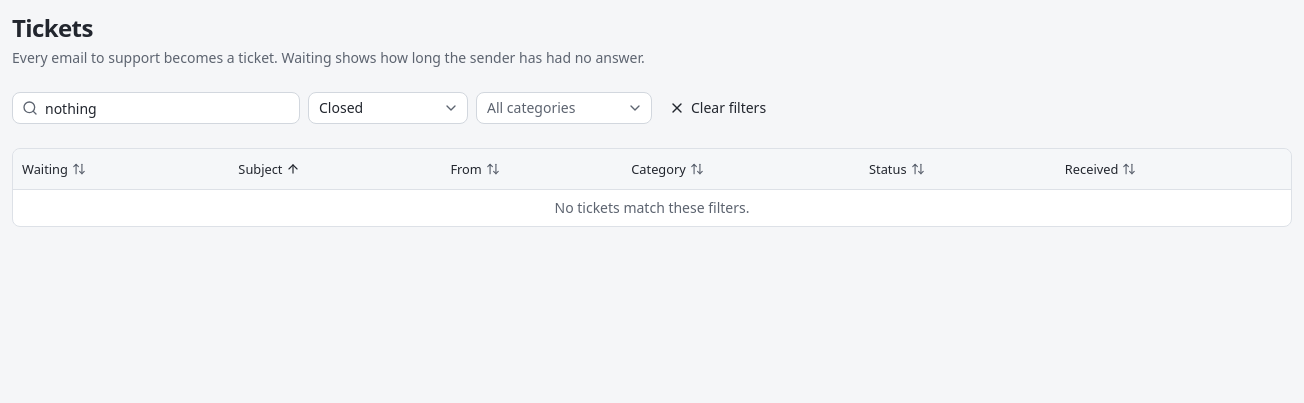
Scenario: TicketsPage › filters › shows a filtered empty state and clears all filters
Expected: the text "No tickets match these filters." is shown, [13, 189, 1291, 226]
Click the button "Clear filters": (719, 108) [660, 92, 777, 124]
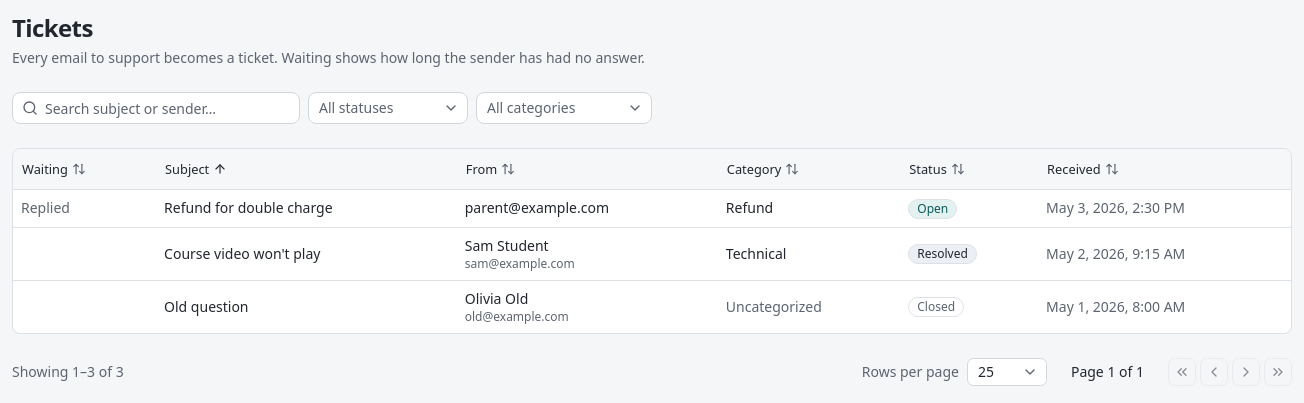
Expected: the link "Refund for double charge" is shown, [164, 198, 333, 217]
Expected: the search field named "Search tickets" is empty, [12, 92, 300, 124]
Expected: the dropdown labelled "status" shows "All statuses", [308, 92, 468, 124]
